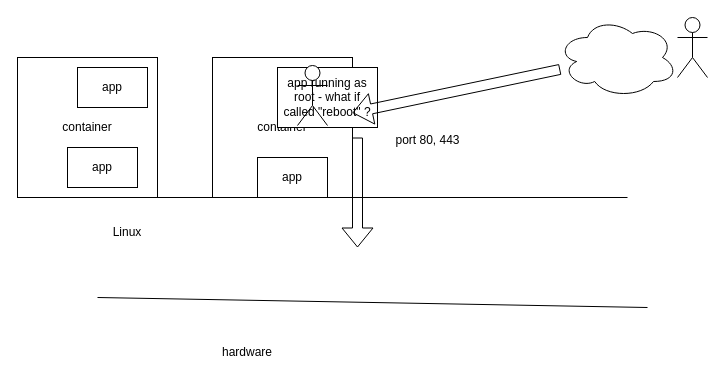
This 725x385 diagram has some shape labels left out. Each missing label, with the centre of its shape:
Actor: point 692,47
hacker: point 312,95
